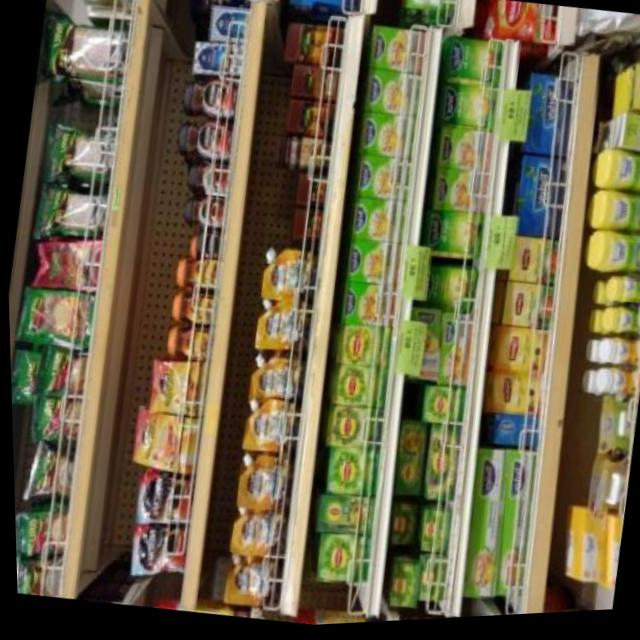Coffee: (128, 410, 197, 476), (147, 360, 205, 419), (132, 471, 193, 527), (127, 521, 185, 579), (173, 118, 233, 165), (180, 76, 238, 124), (163, 324, 209, 366), (168, 289, 214, 331), (185, 161, 228, 200), (174, 257, 217, 295), (182, 194, 224, 231), (193, 230, 220, 260)
